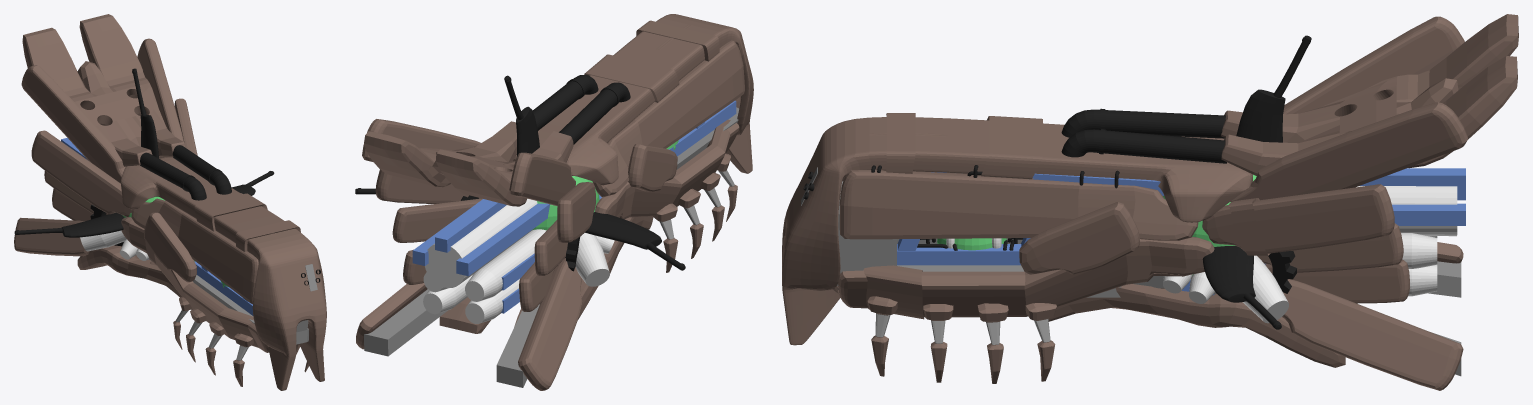
File: CapitalShell.fbx
3 renders of one model, left to right at view 1: azimuth 30°, elevation 25°; view 2: azimuth 150°, elevation 25°; view 3: azimuth 270°, elevation 25°, orthographic. The views are drawn at different scales.
Visible parts, largest first — view 1: Cube.030, Cube.039, Cube.026, Cube.027, Cube.018, Cube.019, Cylinder.009, Cube.017, Cube.029, Cube.002, Cylinder.010, Cube (+8 smaller); view 2: Cube.030, Cube.027, Cube.039, Cube.018, Cylinder.004, Cube.017, Cube.026, Cube, Cube.019, Cylinder.009, Cube.009, Cylinder.010 (+14 smaller); view 3: Cube.030, Cube.018, Cube.026, Cube.027, Cube.039, Cube.019, Cube.017, Cylinder.009, Cube.002, Cube.029, Cylinder.004, Cylinder.010 (+15 smaller).
Part boxes in pixels (box(x1,y1,x2,y2)): Cube.030: box(120, 157, 326, 390); Cube.039: box(22, 14, 185, 166); Cube.026: box(21, 38, 184, 183); Cube.027: box(31, 98, 197, 220); Cube.018: box(131, 198, 258, 304); Cube.019: box(121, 217, 299, 352); Cylinder.009: box(140, 145, 231, 200); Cube.017: box(14, 217, 89, 256); Cube.029: box(144, 193, 242, 282); Cube.002: box(77, 245, 192, 309); Cylinder.010: box(14, 171, 274, 237); Cube: box(149, 258, 308, 344); Cube.030: box(513, 14, 753, 185); Cube.027: box(375, 169, 595, 311); Cube.039: box(364, 121, 573, 206); Cube.018: box(592, 40, 744, 196); Cylinder.004: box(423, 198, 546, 323); Cube.017: box(356, 258, 582, 390); Cube.026: box(362, 119, 575, 206); Cube: box(364, 107, 739, 387); Cube.019: box(595, 119, 739, 219); Cylinder.009: box(532, 75, 630, 144); Cube.009: box(456, 203, 550, 276); Cylinder.010: box(355, 188, 685, 270); Cube.030: box(782, 113, 1252, 345); Cube.018: box(839, 170, 1198, 240); Cube.026: box(1230, 16, 1467, 201); Cube.027: box(1202, 184, 1409, 303); Cube.039: box(1221, 14, 1518, 175); Cube.019: box(838, 237, 1214, 319); Cube.017: box(1282, 242, 1463, 390); Cylinder.009: box(1061, 108, 1226, 163); Cube.002: box(1048, 284, 1345, 367); Cube.029: box(1019, 202, 1139, 274); Cylinder.004: box(1356, 186, 1457, 296); Cylinder.010: box(1202, 246, 1281, 329).
Size of the model in its own units: 2043 by 1574 by 3308.
